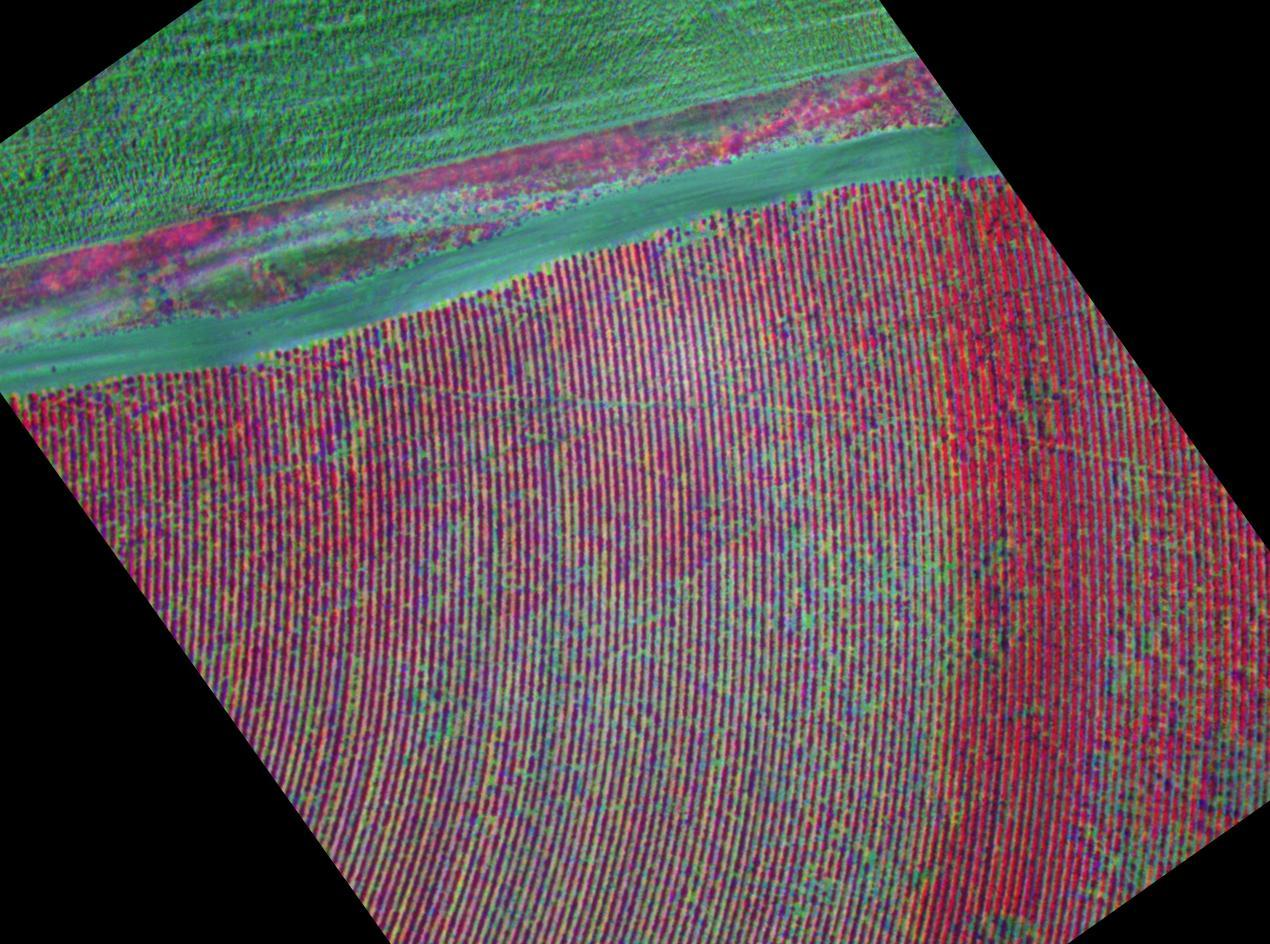dc: (869, 854, 874, 859), (827, 543, 831, 548), (650, 616, 655, 620), (796, 904, 800, 909), (684, 239, 688, 243), (807, 618, 811, 622), (490, 778, 494, 782), (354, 423, 357, 427), (836, 764, 839, 768), (405, 364, 408, 367)
